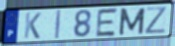8: (73, 9, 93, 39)
E: (94, 7, 120, 38)
I: (54, 9, 62, 40)
K: (22, 12, 43, 40)
M: (118, 7, 147, 37)
Z: (143, 6, 168, 35)
